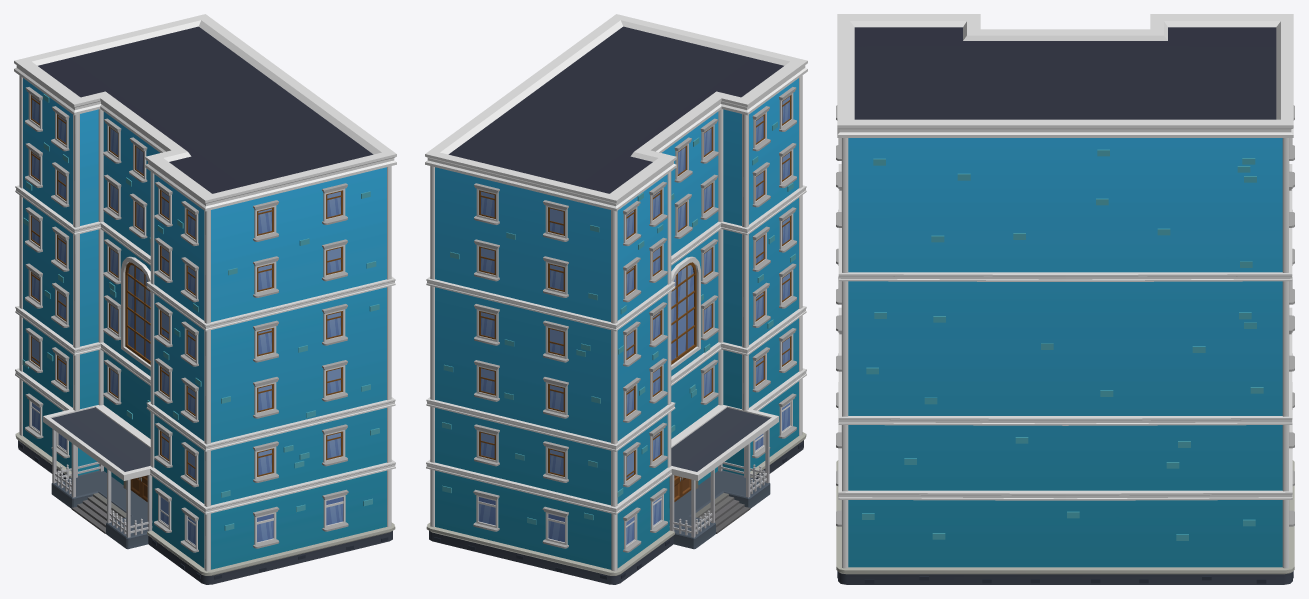
The model's file is Building_5_4_F.fbx.
3 views of the same model, side by side, from view 1: azimuth 30°, elevation 25°; view 2: azimuth 150°, elevation 25°; view 3: azimuth 270°, elevation 25° (orthographic). The views are drawn at different scales.
Parts seen in each view (by area): view 1: Building_5_4_F; view 2: Building_5_4_F; view 3: Building_5_4_F.
Boxes of the visible parts, x1,y1,x2,y2 form: Building_5_4_F: [14, 14, 396, 584]; Building_5_4_F: [425, 14, 807, 584]; Building_5_4_F: [836, 14, 1294, 584].
Size of the model in its own units: 1251 by 2109 by 1908.
